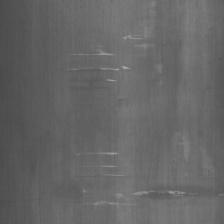waist_folding: (35, 39, 172, 218)
